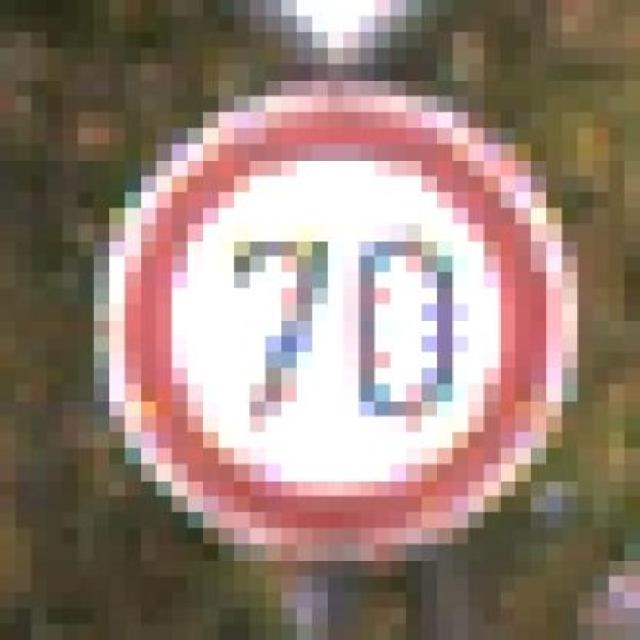forb_speed_over_70: (118, 93, 559, 550)
